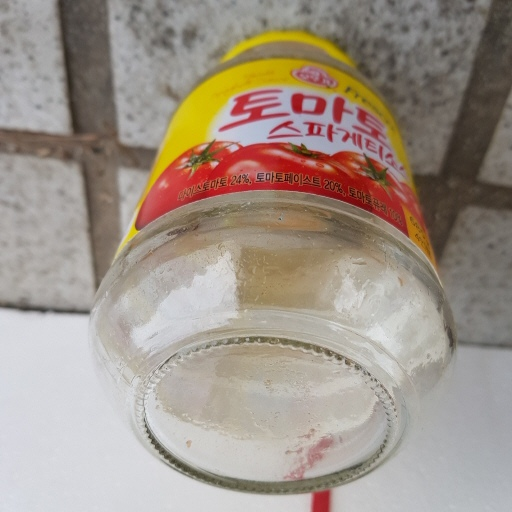Glass_5: (92, 32, 457, 497)
